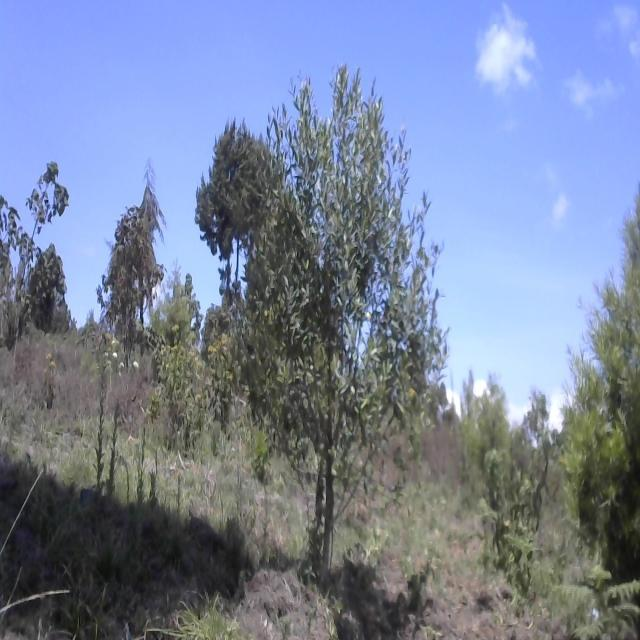Podocarpus falcatus: (557, 182, 640, 584)
Salix alba: (249, 60, 457, 622)
cedrus: (196, 102, 282, 292), (119, 143, 163, 342)
other: (0, 149, 75, 324)
